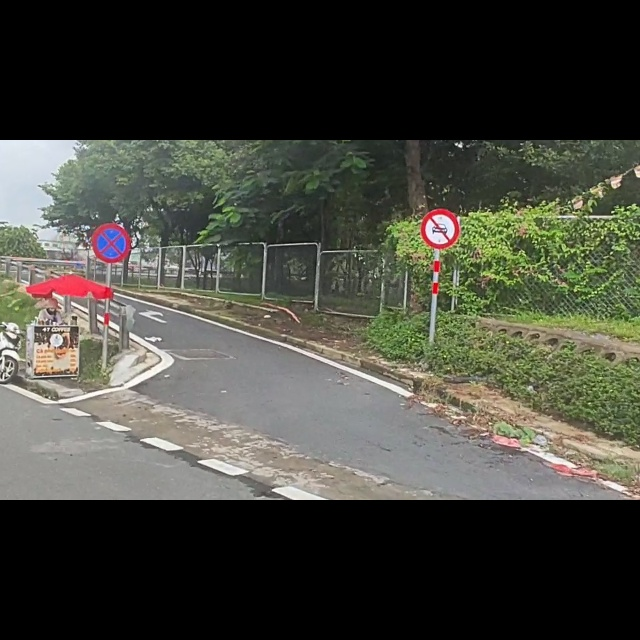bien_cam: (90, 146, 131, 219), (421, 122, 460, 194)
